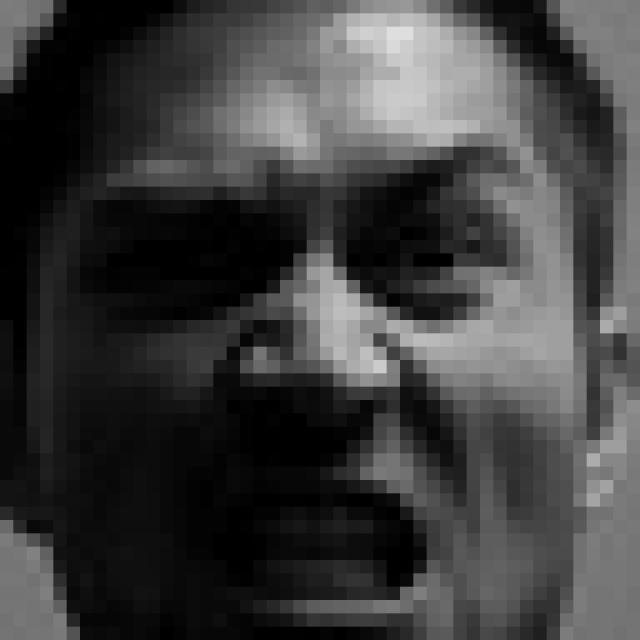angry: (70, 137, 540, 640)
